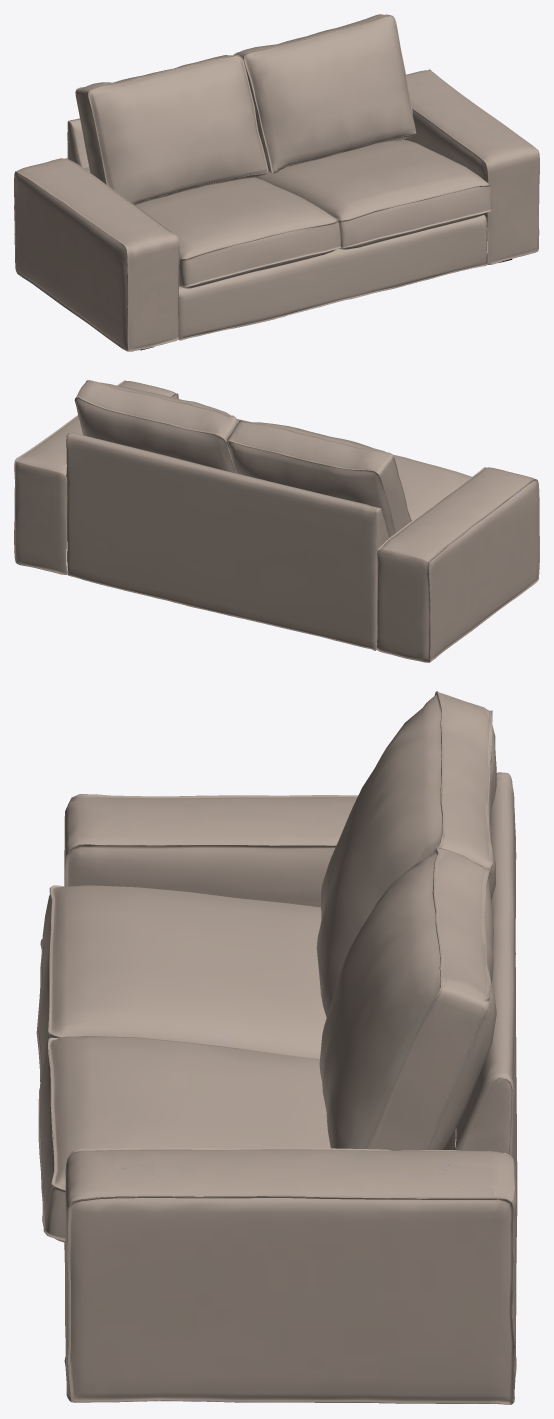
The model's file is cover-tallmyra-bezowy.glb.
The picture shows the model from 3 angles, top to bottom: view 1: azimuth 30°, elevation 25°; view 2: azimuth 150°, elevation 25°; view 3: azimuth 270°, elevation 25°; orthographic projection. The views are drawn at different scales.
Parts seen in each view (by area): view 1: Mesh_0; view 2: Mesh_0; view 3: Mesh_0.
Part boxes in pixels (x1,y1,x2,y2): Mesh_0: [14, 14, 539, 351]; Mesh_0: [14, 380, 539, 662]; Mesh_0: [36, 691, 517, 1404].
Size of the model in its own units: 1.9 by 0.8299 by 0.9501.
Materials: 2 (2 with a texture image).
